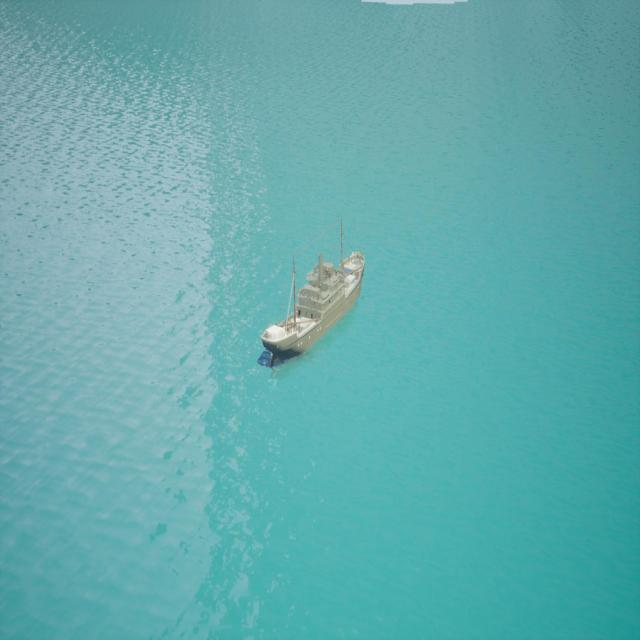fishing ship: (258, 232, 366, 369)
